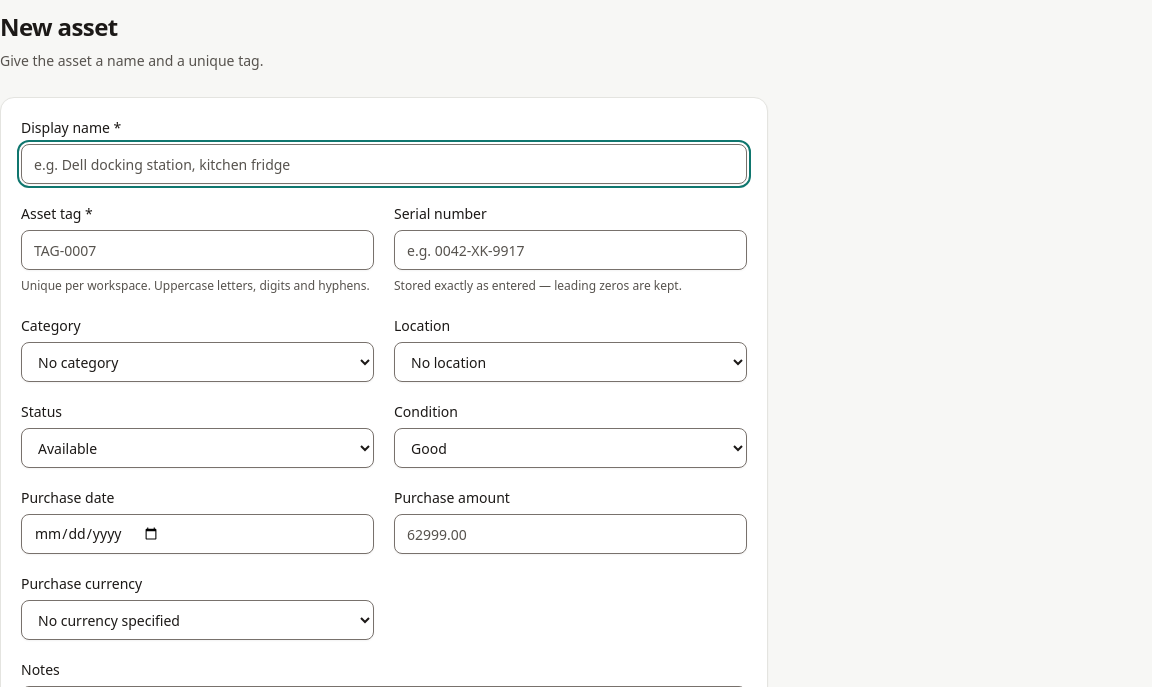
Test: AssetForm › creates the asset via the API and shows a success toast
The image size is (1152, 687).
Type "Label printer" into the field labelled "Display name *". click: (384, 164)
box: [21,144,747,184]
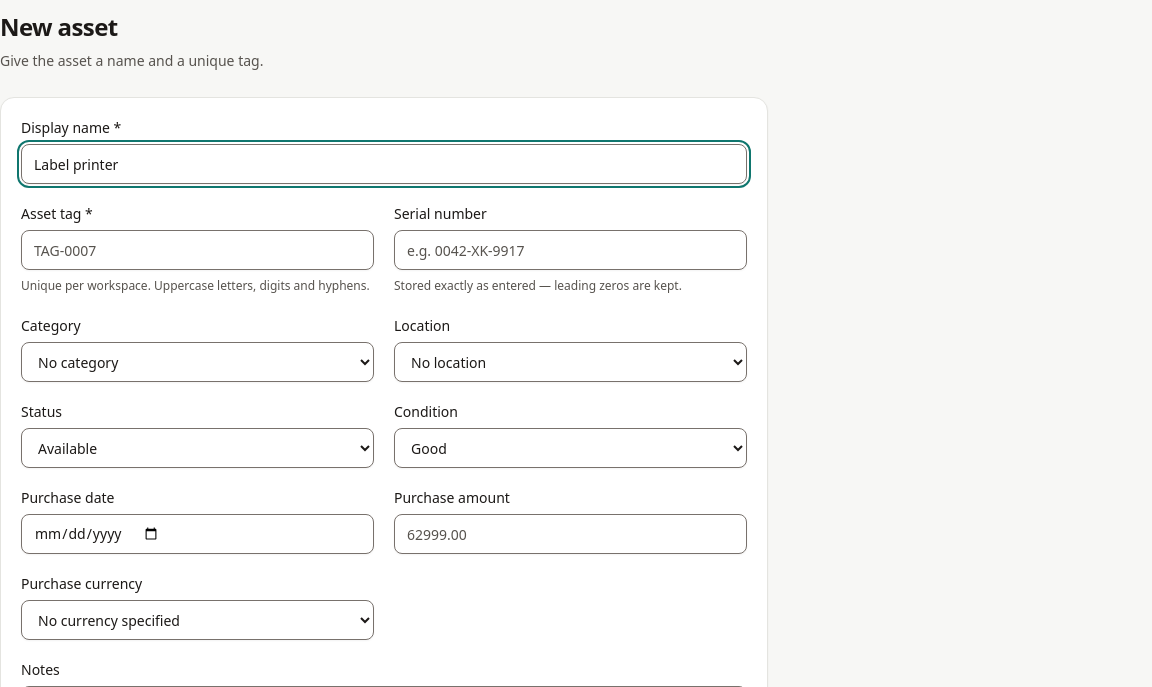
Type "tag-0042" into the field labelled "Asset tag *". click: (198, 250)
box: [21,230,374,270]
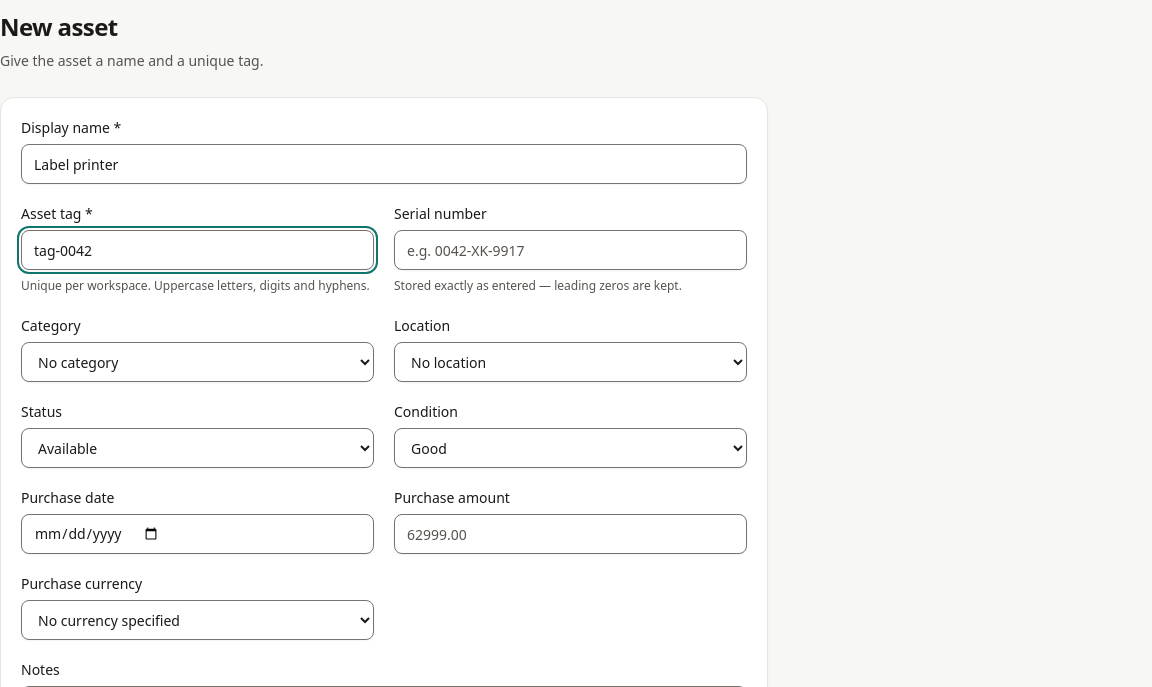
Type "0042-XK-9917" into the field labelled "Serial number". click: (570, 250)
box: [394,230,747,270]
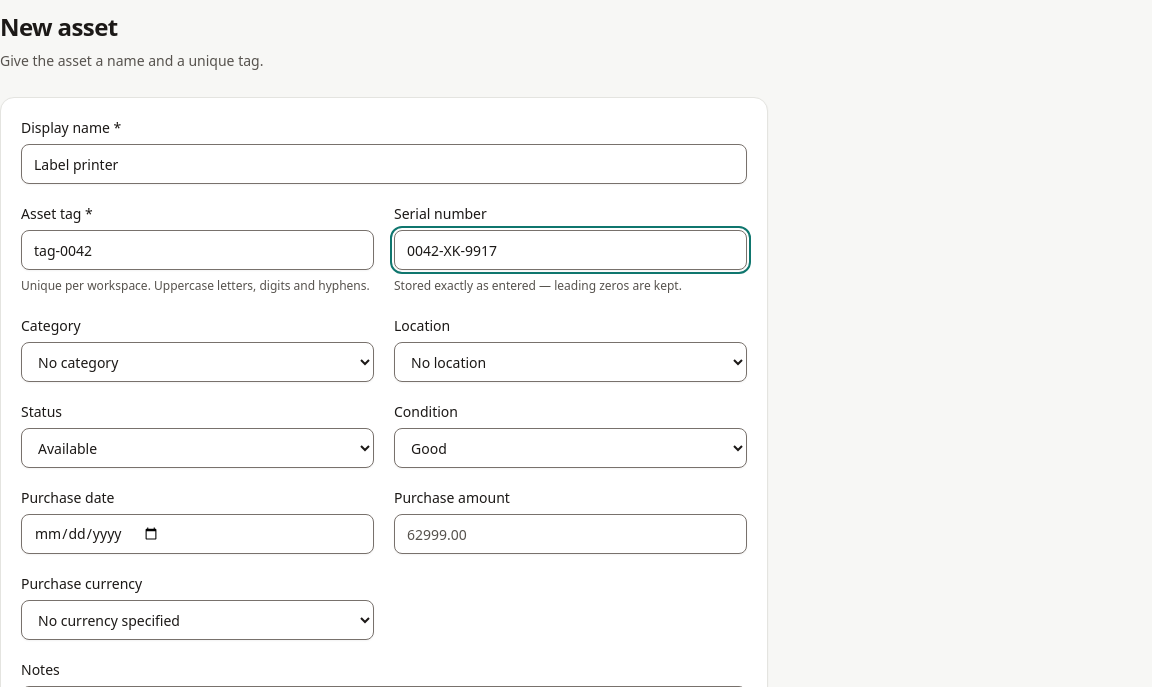
Select "MYR" in the dropdown labelled "Purchase currency". click: (198, 620)
box: [21,600,374,640]
(page scrolled)
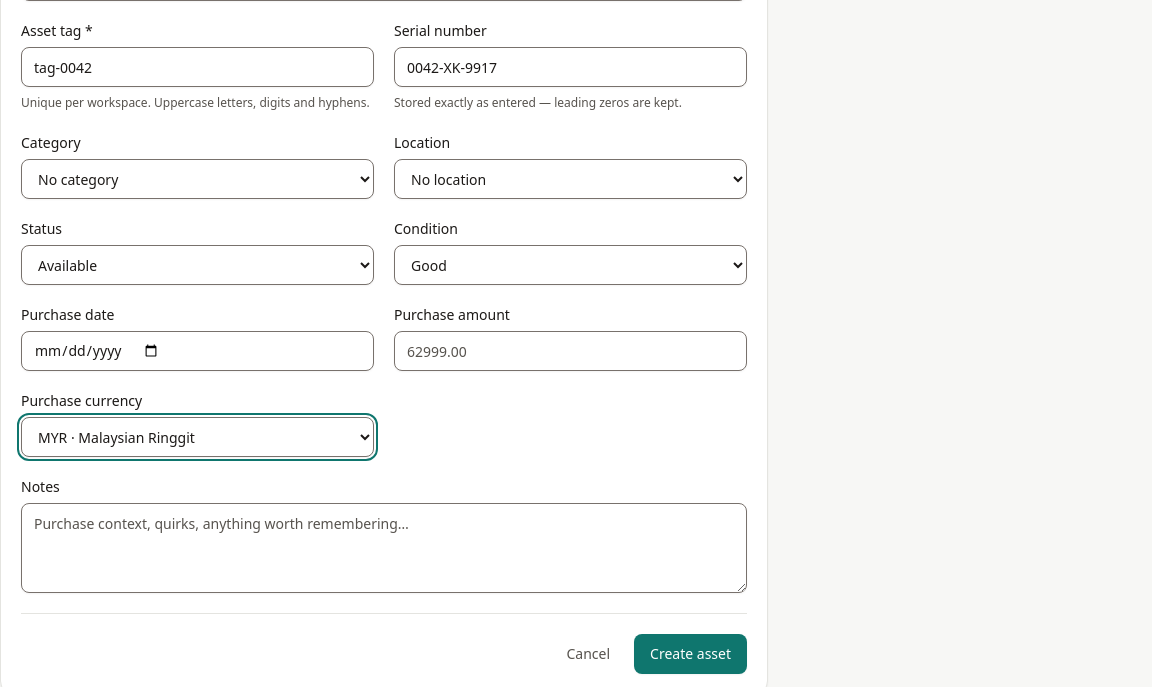
Click the button "Create asset". click: (691, 654)
box: [634,634,747,674]
(page scrolled)
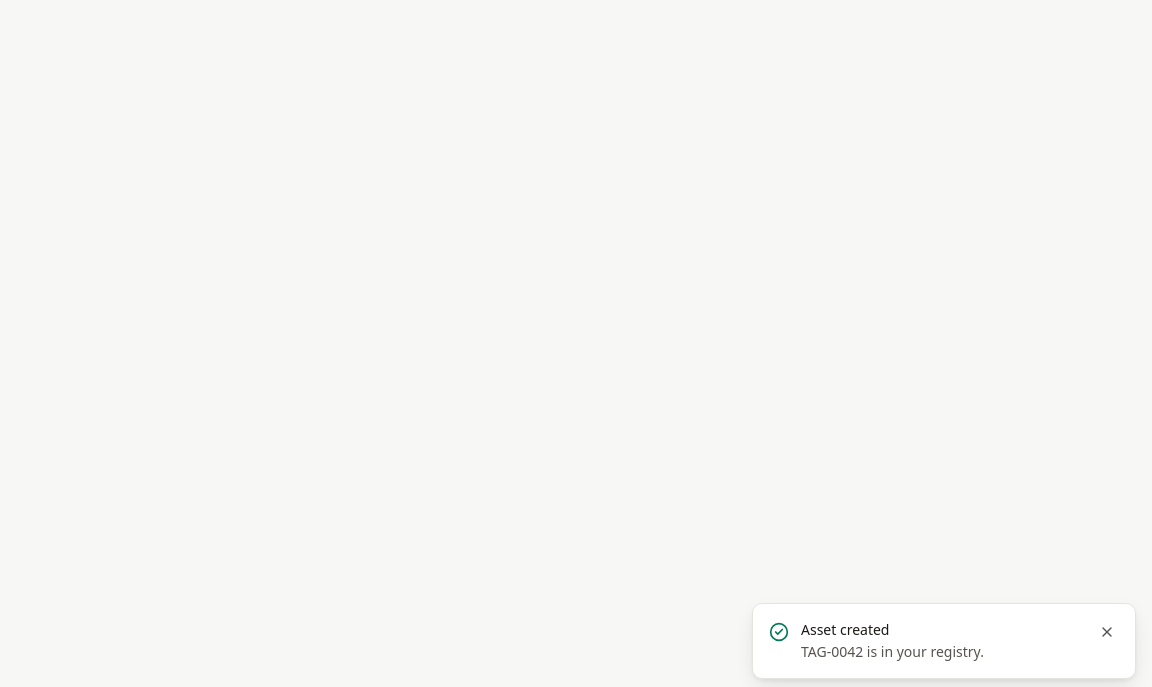
Result: the text "Asset created" is shown at [801,620,890,639]
